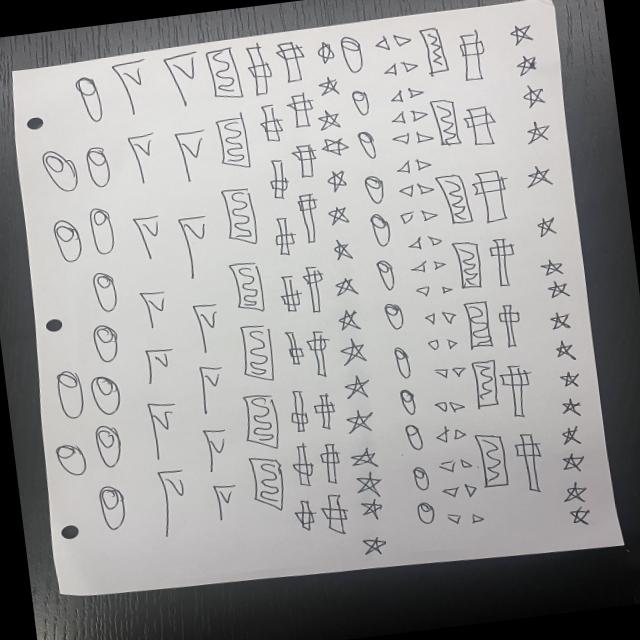Button: (554, 334, 586, 367), (331, 304, 364, 335), (341, 406, 374, 436), (522, 162, 555, 192), (552, 364, 585, 394), (326, 232, 354, 266), (351, 466, 382, 496), (520, 80, 549, 110), (512, 52, 543, 80), (502, 21, 534, 48), (553, 424, 587, 449), (543, 305, 572, 334), (340, 374, 370, 402), (330, 274, 360, 302), (524, 118, 554, 146), (358, 532, 389, 559), (348, 444, 379, 471), (312, 35, 336, 69), (339, 336, 366, 366), (566, 502, 596, 528), (558, 452, 590, 476), (326, 204, 354, 231), (314, 107, 342, 134), (536, 253, 564, 280), (319, 134, 346, 161), (358, 494, 386, 520), (534, 212, 560, 240), (558, 394, 584, 422), (558, 478, 586, 504), (544, 278, 577, 300), (314, 74, 341, 100), (326, 167, 350, 194)
Command: (106, 56, 157, 118), (169, 210, 215, 278), (138, 393, 182, 462), (160, 48, 203, 110), (154, 464, 190, 538), (166, 121, 210, 180), (126, 212, 166, 268), (190, 361, 233, 412), (126, 130, 160, 192), (188, 296, 221, 358), (198, 420, 232, 478), (140, 341, 179, 388), (136, 285, 172, 329), (208, 478, 240, 526)
IncDec: (394, 203, 444, 230), (422, 301, 459, 335), (389, 126, 436, 151), (373, 26, 414, 54), (386, 82, 426, 109), (436, 452, 476, 478), (436, 480, 480, 503), (398, 178, 436, 204), (425, 333, 463, 359), (445, 504, 485, 528), (412, 280, 454, 302), (382, 57, 422, 80), (432, 422, 472, 445), (434, 392, 468, 419), (426, 360, 468, 381), (404, 230, 444, 252), (396, 153, 432, 177), (406, 255, 446, 276), (389, 108, 426, 126)
Slider: (471, 166, 516, 226), (510, 430, 549, 493), (498, 362, 538, 419), (240, 39, 274, 100), (318, 488, 356, 540), (453, 28, 489, 82), (464, 104, 502, 154), (485, 235, 519, 290), (270, 36, 307, 86), (300, 260, 332, 316), (280, 386, 313, 437), (286, 438, 317, 492), (495, 300, 525, 353), (279, 323, 309, 375), (254, 100, 287, 147), (294, 190, 322, 245), (305, 328, 334, 379), (316, 436, 344, 488), (311, 387, 338, 435), (270, 213, 299, 256), (264, 156, 291, 202), (274, 270, 302, 314), (284, 90, 316, 128), (291, 495, 319, 536), (290, 138, 318, 178)
Text: (214, 183, 267, 247), (224, 254, 271, 318), (242, 452, 288, 516), (236, 320, 277, 388), (202, 44, 246, 106), (209, 108, 253, 170), (242, 389, 284, 452), (433, 168, 476, 228), (474, 430, 512, 490), (447, 236, 486, 294), (428, 95, 466, 149), (416, 20, 450, 80), (460, 298, 496, 352), (469, 356, 503, 411)
Toggle: (41, 210, 88, 270), (35, 144, 87, 198), (44, 362, 89, 424), (68, 71, 112, 126), (81, 322, 126, 367), (84, 204, 122, 256), (92, 419, 128, 470), (93, 481, 129, 532), (87, 369, 125, 416), (83, 142, 120, 190), (336, 29, 366, 81), (51, 439, 91, 477), (90, 269, 120, 316), (378, 296, 412, 334), (370, 252, 399, 294), (366, 210, 394, 248), (388, 341, 416, 379), (393, 386, 422, 420), (362, 172, 389, 208), (398, 422, 428, 453), (412, 498, 438, 528), (348, 86, 372, 118), (354, 130, 378, 162), (410, 462, 434, 494)
